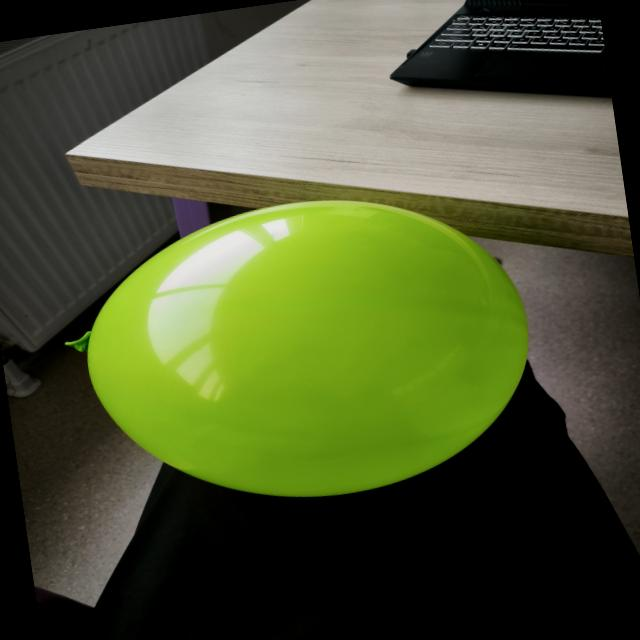balloon: (84, 201, 528, 496)
